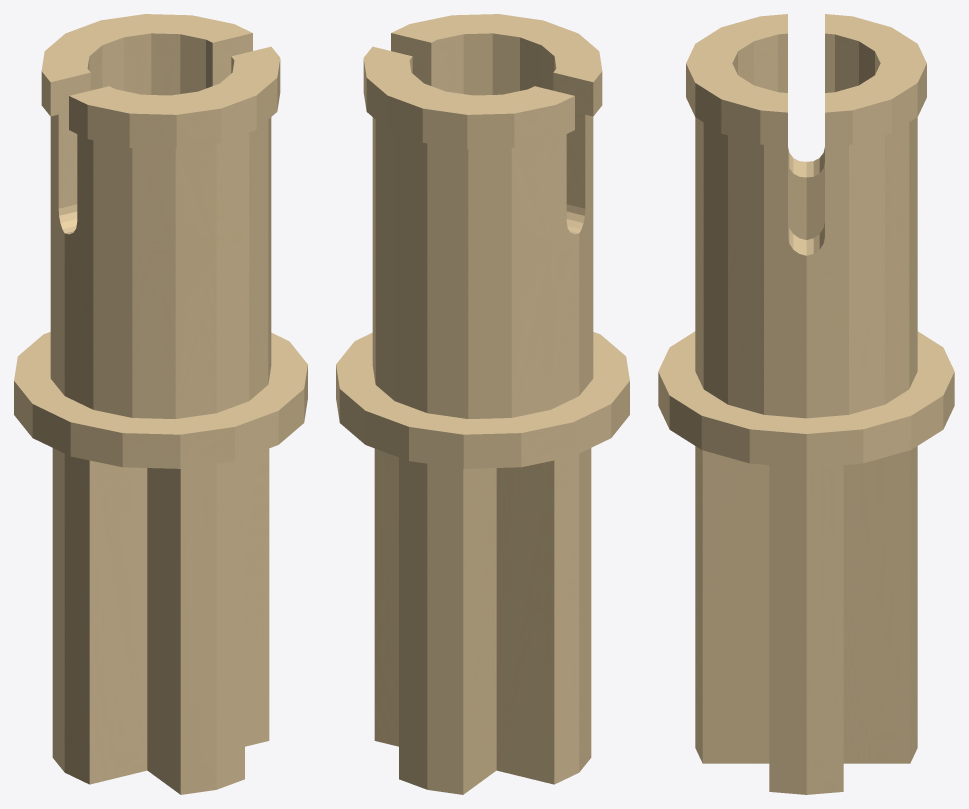
File: connector_peg_cross_axle.dae
3 renders of one model, left to right at view 1: azimuth 30°, elevation 25°; view 2: azimuth 150°, elevation 25°; view 3: azimuth 270°, elevation 25°, orthographic.
Visible parts, largest first — view 1: node; view 2: node; view 3: node.
Part boxes in pixels (left/top/right/bottom): node: left=14, top=14, right=307, bottom=794; node: left=336, top=14, right=629, bottom=794; node: left=658, top=14, right=954, bottom=794.
Bounding box in the file's own units: 15.5 × 39.5 × 15.5.
Materials: 1 (1 with a texture image).
